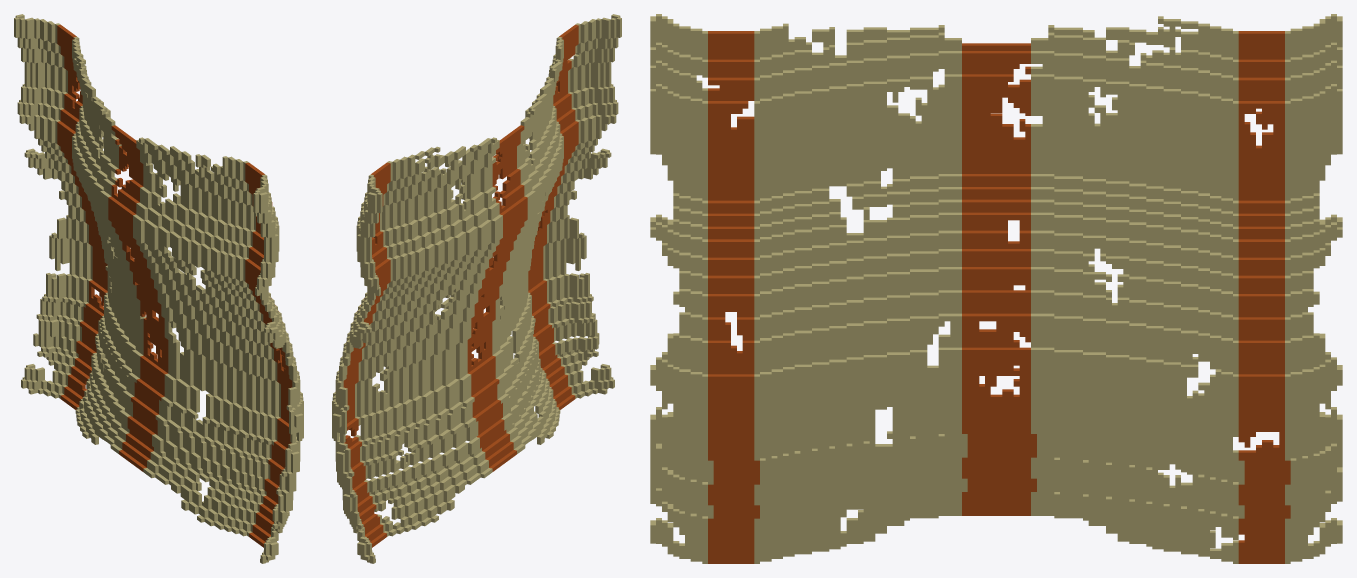
File: ship-2.obj
3 views of the same model, side by side, from view 1: azimuth 30°, elevation 25°; view 2: azimuth 150°, elevation 25°; view 3: azimuth 270°, elevation 25° (orthographic). The views are drawn at different scales.
Bounding box in the file's own units: 2.2 × 10.1 × 12.
1 material, 1 textured.
